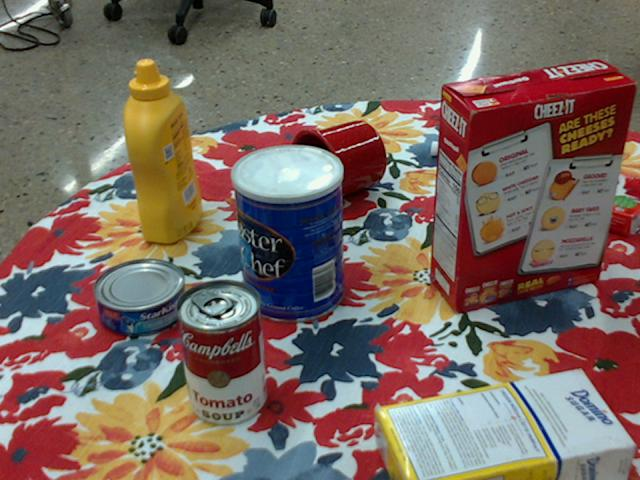cracker_box: (433, 61, 637, 313)
gelatin_box: (566, 168, 639, 236)
large_marker: (431, 141, 528, 162)
master_chef_can: (230, 143, 342, 323)
mug: (288, 120, 386, 209)
mustard_bottle: (124, 60, 201, 244)
sugar_box: (375, 368, 636, 479)
tomato_soup_can: (174, 277, 264, 425)
tuna_fish_can: (92, 257, 185, 334)
